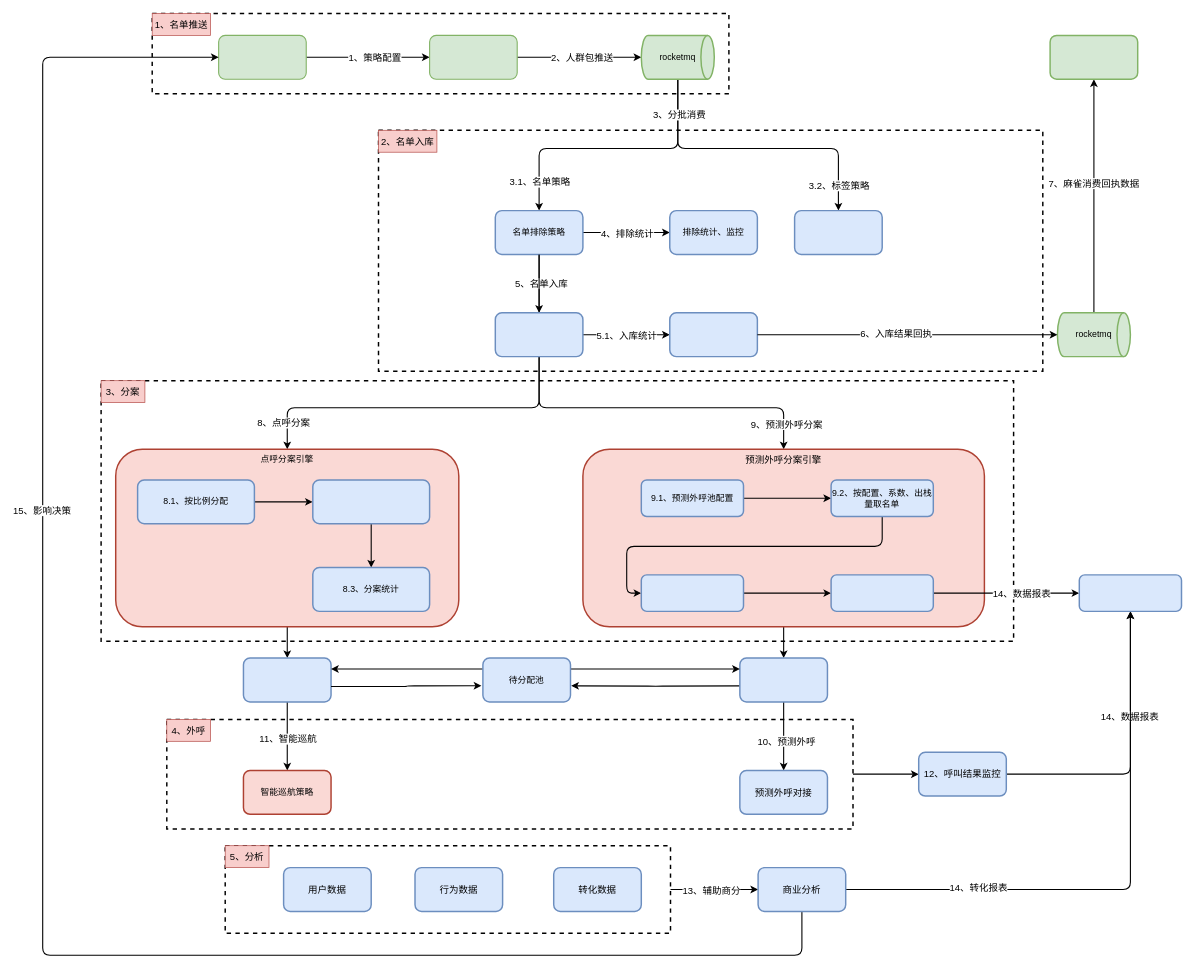
This 1194x974 diagram has some shape labels left out. Each missing label, with the centre of its shape:
"8.2、按坐席均分" belongs at (371,501).
"9.3、创建外呼任务" belongs at (692,593).
"9.4、分案统计" belongs at (882,593).
"人群圈选" belongs at (473,57).
"入库统计、监控" belongs at (713,334).
"名单入库策略" belongs at (538,334).
"回执结果统计" belongs at (1093,57).
"报表大盘" belongs at (1130,593).
"标签绑定" belongs at (838,232).
"案件跟进池" belongs at (286,679).
"策略决策" belongs at (262,57).
"预测外呼池" belongs at (783,679).
